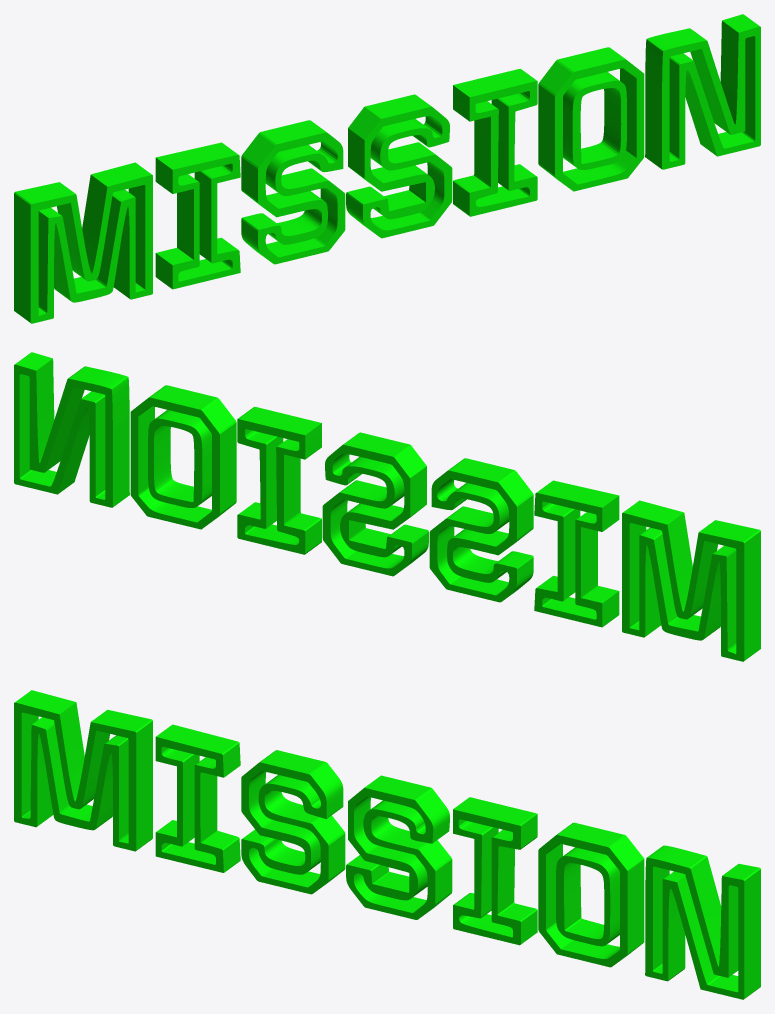
Rendered from missionss.glb.
The picture shows the model from 3 angles, top to bottom: view 1: azimuth 30°, elevation 25°; view 2: azimuth 150°, elevation 25°; view 3: azimuth 330°, elevation 25°; orthographic projection.
Parts seen in each view (by area): view 1: Node1, Node3, Node4, Node5, Node6, Node7, Node2, Node8; view 2: Node1, Node3, Node4, Node5, Node6, Node7, Node2, Node8; view 3: Node1, Node3, Node4, Node5, Node7, Node6, Node2, Node8.
Part boxes in pixels (x1,y1,x2,y2): Node1: (14, 162, 152, 323); Node3: (645, 14, 760, 169); Node4: (346, 94, 452, 238); Node5: (241, 120, 345, 264); Node6: (453, 69, 537, 216); Node7: (155, 142, 240, 289); Node2: (538, 47, 644, 191); Node8: (563, 72, 626, 169); Node1: (622, 500, 760, 661); Node3: (14, 352, 129, 507); Node4: (322, 432, 428, 576); Node5: (429, 458, 533, 602); Node6: (237, 407, 321, 554); Node7: (534, 480, 619, 627); Node2: (130, 385, 236, 529); Node8: (148, 410, 211, 507); Node1: (14, 690, 152, 851); Node3: (645, 845, 760, 999); Node4: (346, 775, 452, 919); Node5: (241, 750, 345, 894); Node7: (155, 724, 240, 872); Node6: (453, 797, 537, 945); Node2: (538, 822, 644, 967); Node8: (556, 847, 619, 946).
Size of the model in its own units: 126 by 19.69 by 5.
